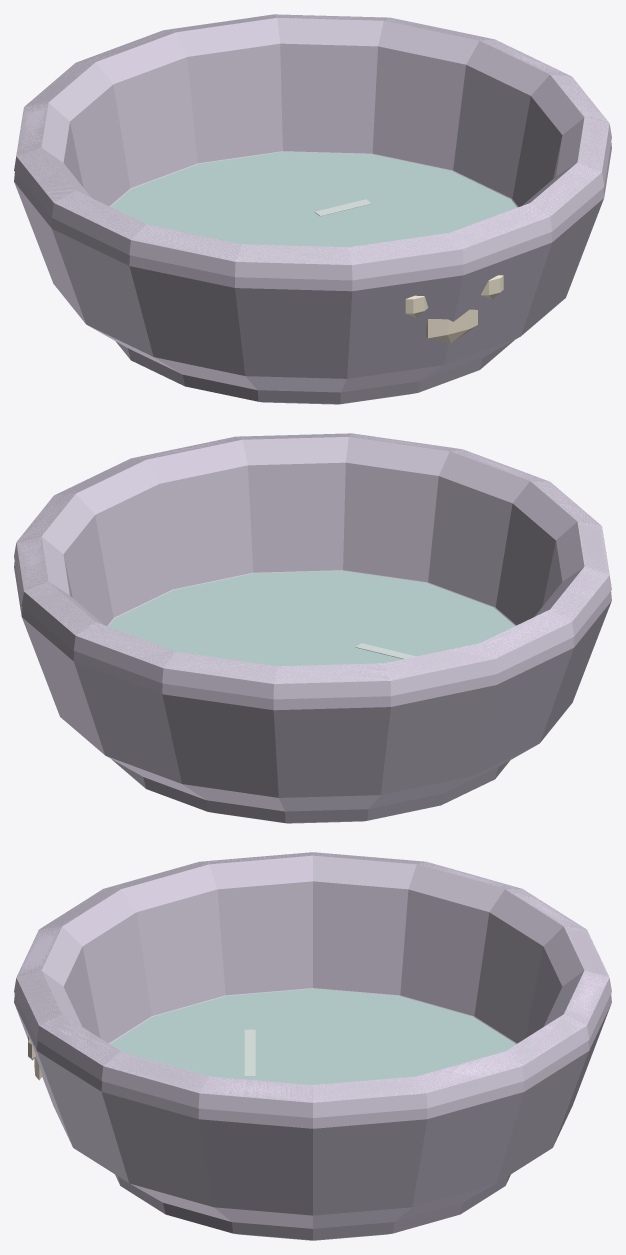
The model's file is crafted-cat-water-2-1.glb.
The picture shows the model from 3 angles, top to bottom: view 1: azimuth 30°, elevation 25°; view 2: azimuth 150°, elevation 25°; view 3: azimuth 270°, elevation 25°; orthographic projection.
Visible parts, largest first — view 1: ceramic-bowl, water-level, glazed-rim, foot-ring, paw-pad; view 2: ceramic-bowl, water-level, glazed-rim, foot-ring; view 3: ceramic-bowl, water-level, glazed-rim, foot-ring, water-glint.
Boxes of the visible parts, left/top/right/bottom form: ceramic-bowl: left=14, top=14, right=611, bottom=392; water-level: left=111, top=152, right=517, bottom=247; glazed-rim: left=14, top=14, right=611, bottom=280; foot-ring: left=116, top=340, right=514, bottom=404; paw-pad: left=426, top=309, right=477, bottom=343; ceramic-bowl: left=14, top=433, right=611, bottom=811; water-level: left=108, top=571, right=514, bottom=666; glazed-rim: left=14, top=433, right=611, bottom=699; foot-ring: left=111, top=759, right=509, bottom=823; ceramic-bowl: left=14, top=852, right=611, bottom=1228; water-level: left=109, top=988, right=516, bottom=1084; glazed-rim: left=14, top=852, right=611, bottom=1117; foot-ring: left=115, top=1174, right=510, bottom=1240; water-glint: left=244, top=1029, right=255, bottom=1076.
Bounding box in the file's own units: 0.76 × 0.265 × 0.76.
